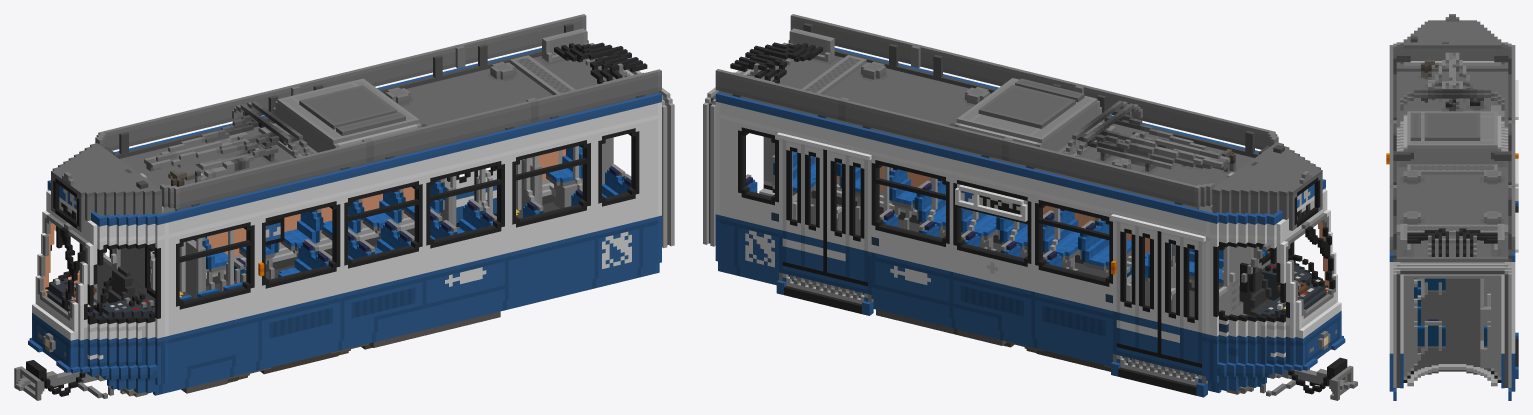
Rendered from tram20001front.obj.
3 renders of one model, left to right at view 1: azimuth 30°, elevation 25°; view 2: azimuth 150°, elevation 25°; view 3: azimuth 270°, elevation 25°, orthographic. The views are drawn at different scales.
Parts seen in each view (by area): view 1: FRAME, INTERIOR, WIDGET_23_TL_1.9375_Y_CG_panto_LABEL_Pantograph, WIDGET_25_TL_1.9375_Y_CG_panto_LABEL_Pantograph, WIDGET_22_CG_panto_LABEL_Pantograph, displays_INTERIOR, BOGEY_FRONT, WIDGET_21_CG_panto_LABEL_Pantograph, DOOR_21_INTERIOR, DOOR_12_EXTERNAL_CG_dr_TL_-0.625_X; view 2: FRAME, INTERIOR, DOOR_11_CG_dr, DOOR_4_CG_df, DOOR_1_CG_df, DOOR_14_CG_dr, DOOR_12_EXTERNAL_CG_dr_TL_-0.625_X, DOOR_2_EXTERNAL_CG_df_TL_-0.625_X, DOOR_3_EXTERNAL_CG_df_TL_0.625_X, DOOR_13_EXTERNAL_CG_dr_TL_0.625_X, WIDGET_1_CG_df, WIDGET_11_CG_dr (+11 smaller); view 3: FRAME, INTERIOR, WIDGET_25_TL_1.9375_Y_CG_panto_LABEL_Pantograph, WIDGET_23_TL_1.9375_Y_CG_panto_LABEL_Pantograph, WIDGET_22_CG_panto_LABEL_Pantograph, WIDGET_21_CG_panto_LABEL_Pantograph, WIDGET_24_TL_1.9375_Y_CG_panto_LABEL_Pantograph.
Boxes of the visible parts, x1,y1,x2,y2 form: FRAME: (14, 14, 674, 400); INTERIOR: (42, 133, 633, 318); WIDGET_23_TL_1.9375_Y_CG_panto_LABEL_Pantograph: (144, 115, 279, 168); WIDGET_25_TL_1.9375_Y_CG_panto_LABEL_Pantograph: (232, 101, 311, 158); WIDGET_22_CG_panto_LABEL_Pantograph: (156, 132, 276, 161); displays_INTERIOR: (59, 185, 280, 241); BOGEY_FRONT: (227, 343, 372, 382); WIDGET_21_CG_panto_LABEL_Pantograph: (146, 147, 247, 171); DOOR_21_INTERIOR: (97, 248, 120, 302); DOOR_12_EXTERNAL_CG_dr_TL_-0.625_X: (456, 171, 474, 226); FRAME: (703, 14, 1357, 400); INTERIOR: (744, 133, 1329, 317); DOOR_11_CG_dr: (845, 155, 864, 285); DOOR_4_CG_df: (1120, 222, 1138, 352); DOOR_1_CG_df: (1180, 236, 1198, 366); DOOR_14_CG_dr: (786, 140, 804, 270); DOOR_12_EXTERNAL_CG_dr_TL_-0.625_X: (827, 150, 845, 280); DOOR_2_EXTERNAL_CG_df_TL_-0.625_X: (1161, 232, 1179, 362); DOOR_3_EXTERNAL_CG_df_TL_0.625_X: (1139, 226, 1157, 356); DOOR_13_EXTERNAL_CG_dr_TL_0.625_X: (805, 145, 823, 275); WIDGET_1_CG_df: (1116, 347, 1201, 385); WIDGET_11_CG_dr: (782, 265, 867, 304); FRAME: (1386, 14, 1518, 400); INTERIOR: (1403, 274, 1501, 386); WIDGET_25_TL_1.9375_Y_CG_panto_LABEL_Pantograph: (1400, 89, 1504, 110); WIDGET_23_TL_1.9375_Y_CG_panto_LABEL_Pantograph: (1428, 52, 1476, 98); WIDGET_22_CG_panto_LABEL_Pantograph: (1449, 52, 1452, 106); WIDGET_21_CG_panto_LABEL_Pantograph: (1452, 52, 1455, 102); WIDGET_24_TL_1.9375_Y_CG_panto_LABEL_Pantograph: (1456, 63, 1476, 105).
Bounding box in the file's own units: 10.44 × 3.75 × 2.38.
1 material, 1 textured.
